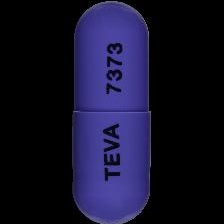0093-7373: (0, 0, 224, 224)
